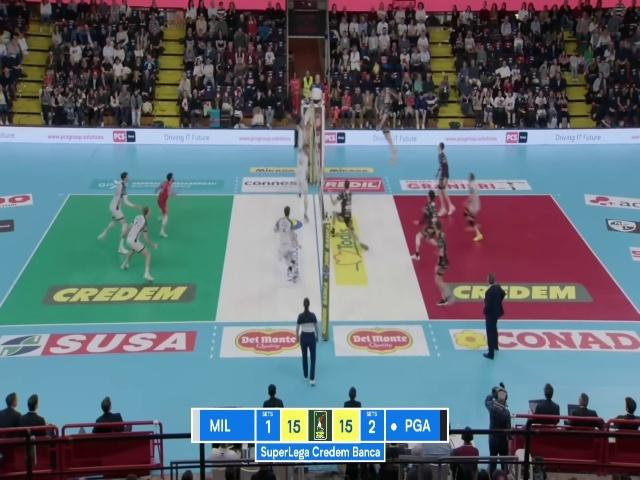volleyball court: (0, 191, 639, 329)
